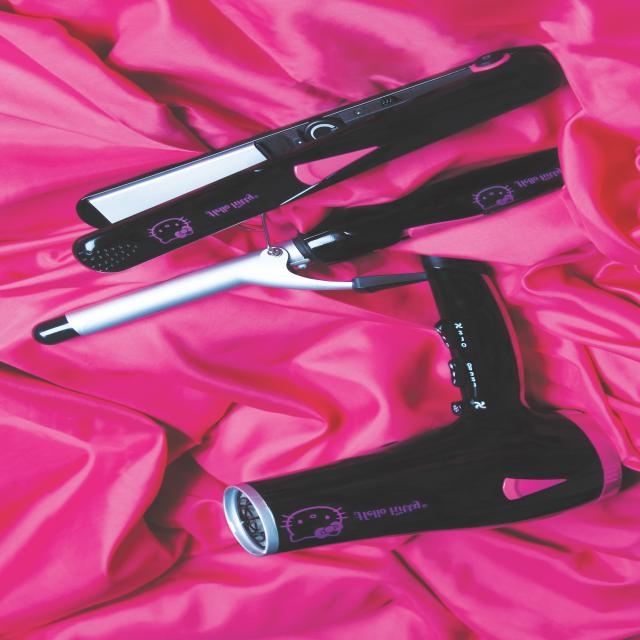dryer: (222, 255, 640, 559)
